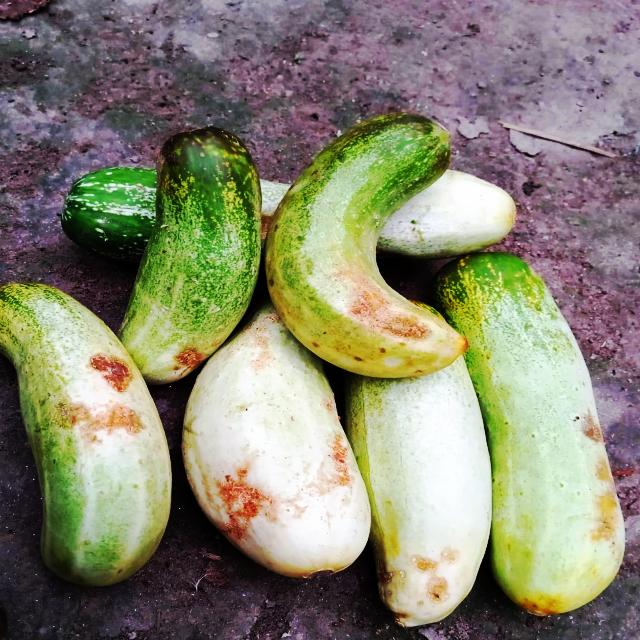Belly-Rot: (54, 349, 149, 452), (571, 405, 626, 545), (338, 271, 432, 351), (202, 453, 282, 546), (377, 536, 469, 614), (316, 396, 356, 496), (238, 306, 282, 382), (169, 338, 211, 384)
